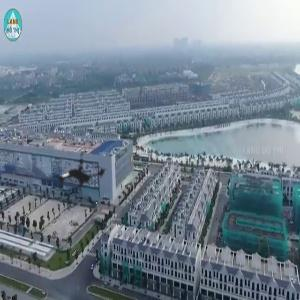drone: (29, 124, 128, 223)
